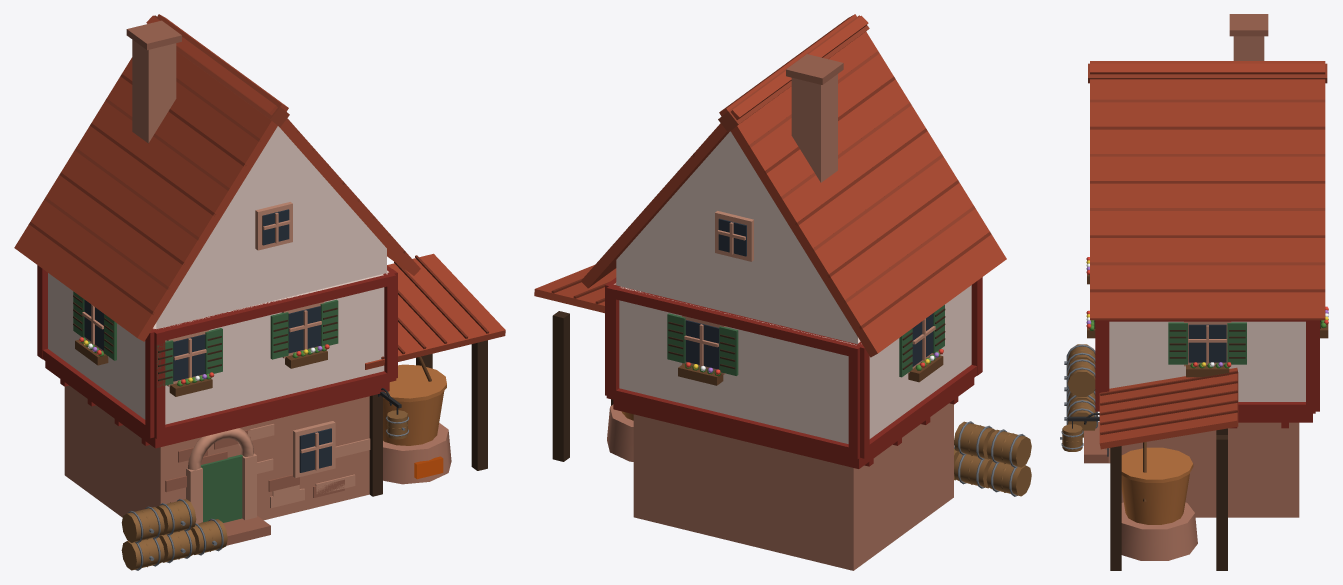
File: brauerei.glb
3 renders of one model, left to right at view 1: azimuth 30°, elevation 25°; view 2: azimuth 150°, elevation 25°; view 3: azimuth 270°, elevation 25°, orthographic. The views are drawn at different scales.
Bounding box in the file's own units: 4.41 × 4.89 × 2.79.
